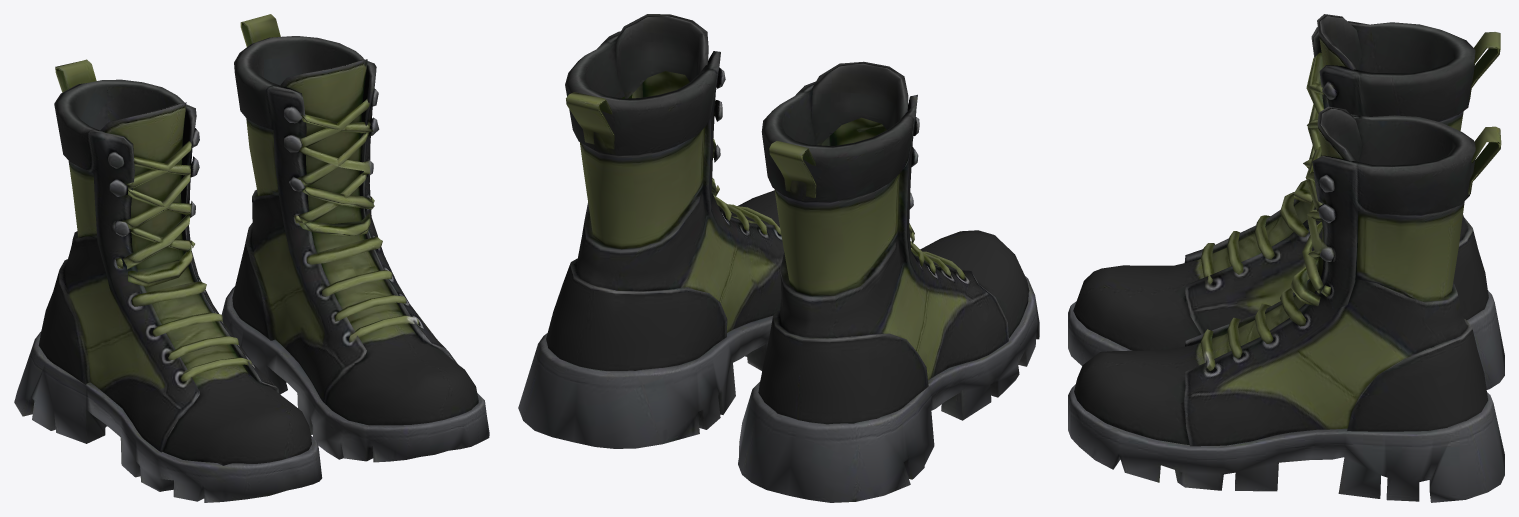
Rendered from reinforced-feet.glb.
3 views of the same model, side by side, from view 1: azimuth 30°, elevation 25°; view 2: azimuth 150°, elevation 25°; view 3: azimuth 270°, elevation 25° (orthographic). The views are drawn at different scales.
Parts seen in each view (by area): view 1: reinforced-feet; view 2: reinforced-feet; view 3: reinforced-feet.
Part boxes in pixels (x1,y1,x2,y2): reinforced-feet: (14, 14, 489, 502); reinforced-feet: (518, 14, 1039, 502); reinforced-feet: (1068, 14, 1504, 502).
Bounding box in the file's own units: 0.4356 × 0.3905 × 0.45.
1 material, 1 textured.
